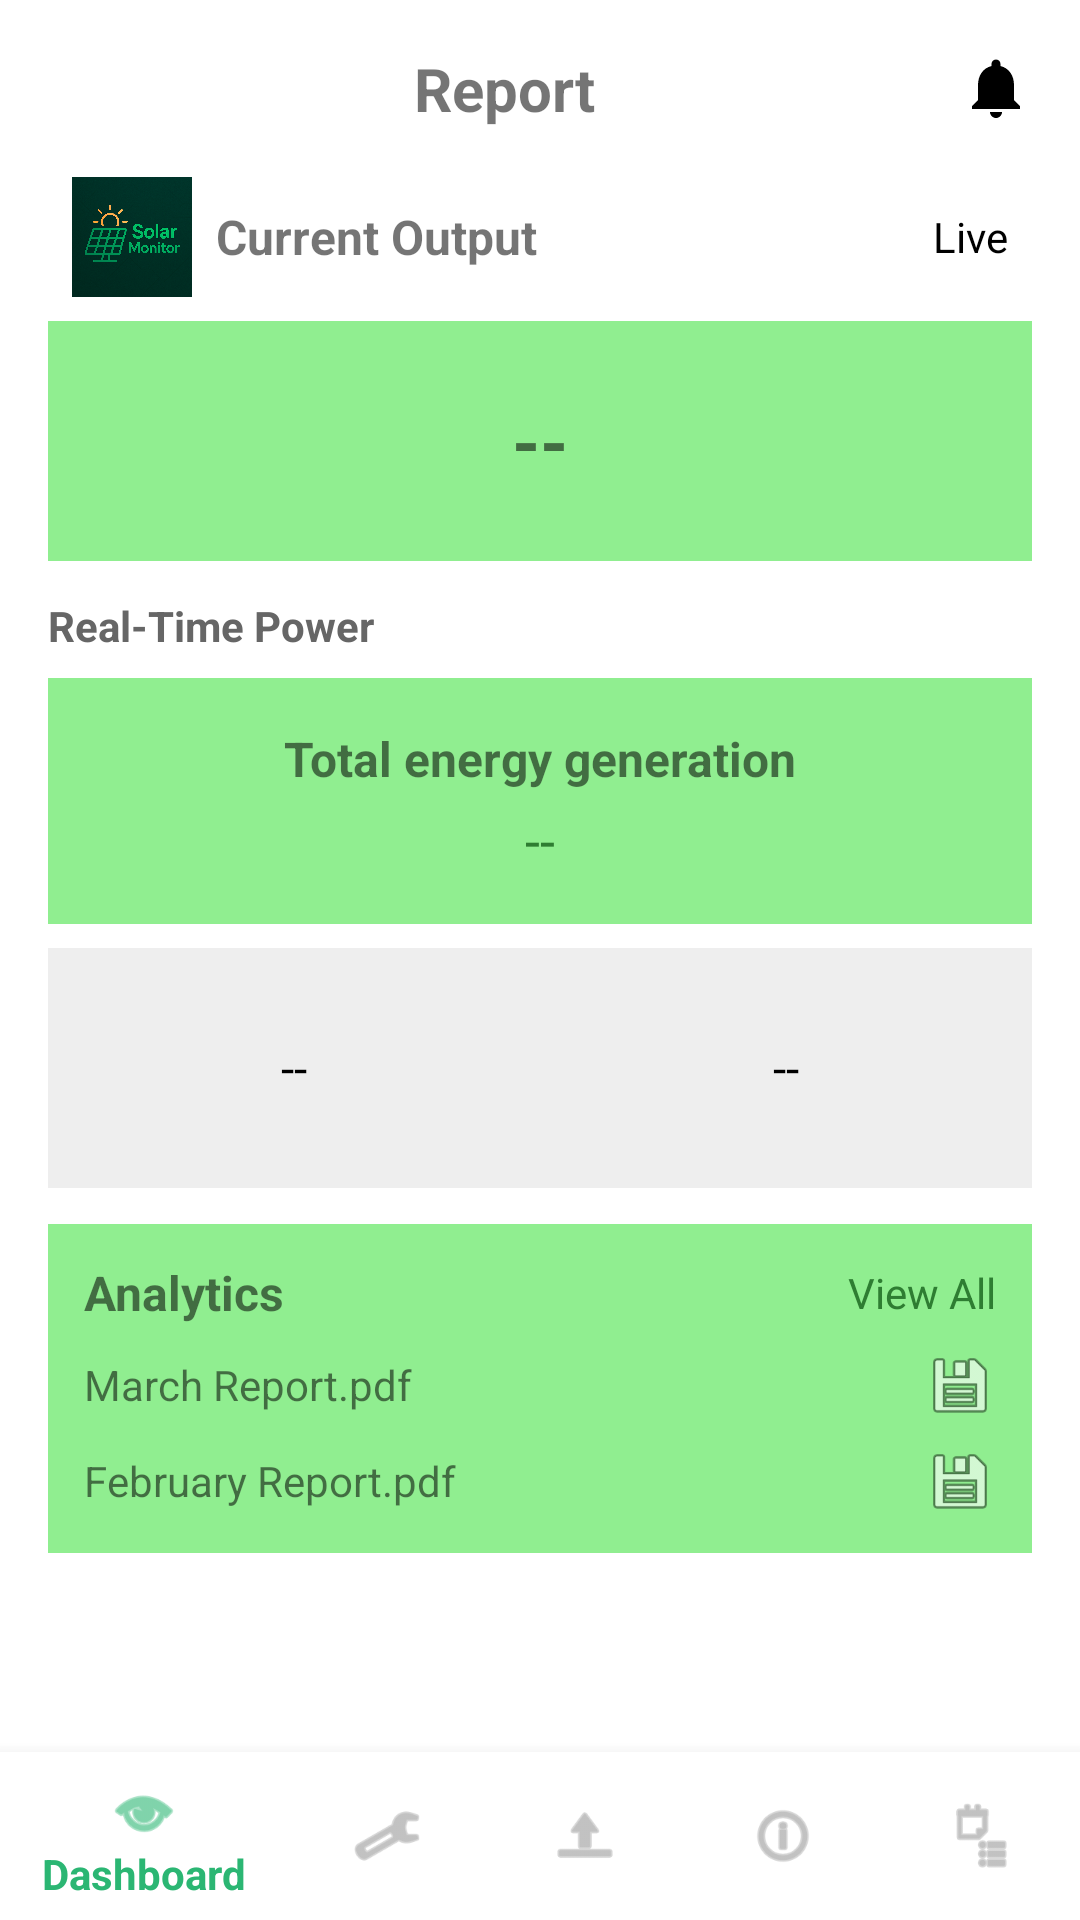

Named icons in this screenshot (1080×1920) and their centers, (x,y):
Notifications: (996,88)
save: (960,1385), (960,1481)
